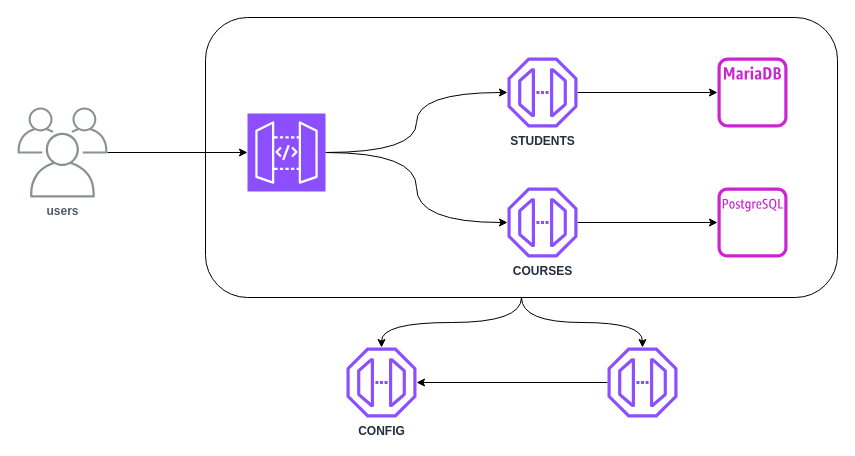
The diagram is 855 pixels wide and 456 high, and some of its shapes have lost their labels. The box of each missing label's shape, as (x1, y1, x2, y2) in pixels:
EUREKA: (607, 347, 677, 417)
GATEWAY: (246, 112, 326, 192)
